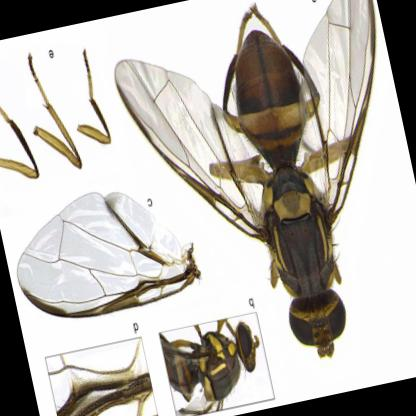fruit fly: (113, 0, 377, 360)
